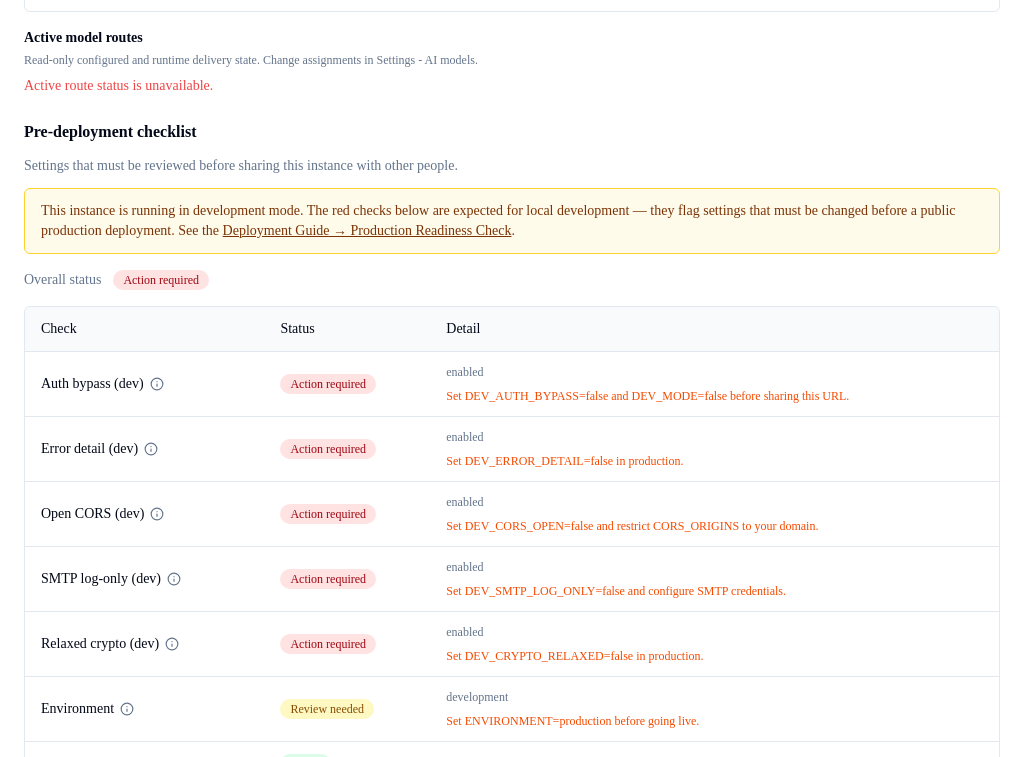
Test case: AdminSystemHealthPage › renders an info tooltip for auth-bypass check containing the explanation copy
(page scrolled)
expect the text "Auth bypass (dev)" is shown: met, box [41,374,144,394]
Hover over the button named "More info" next to "Auth bypass (dev)".
mouse_move(157, 384)  # box [150,377,164,391]
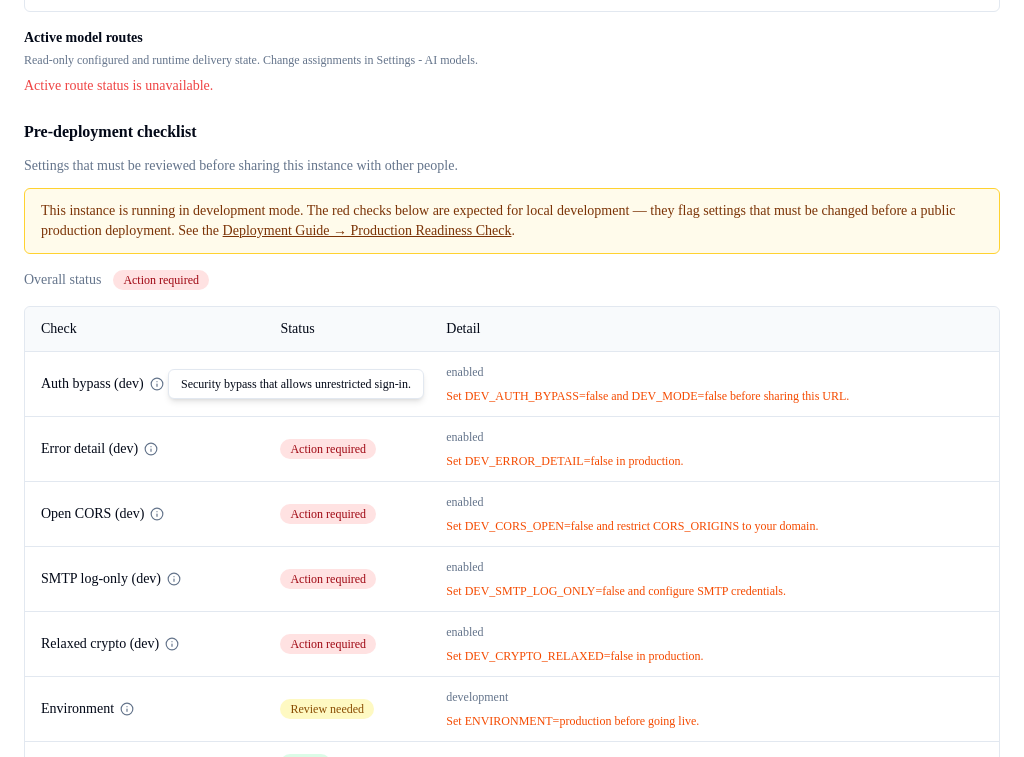
expect the tooltip "Security bypass that allows unrestricted sign-in." is shown: met, box [168,369,424,399]
